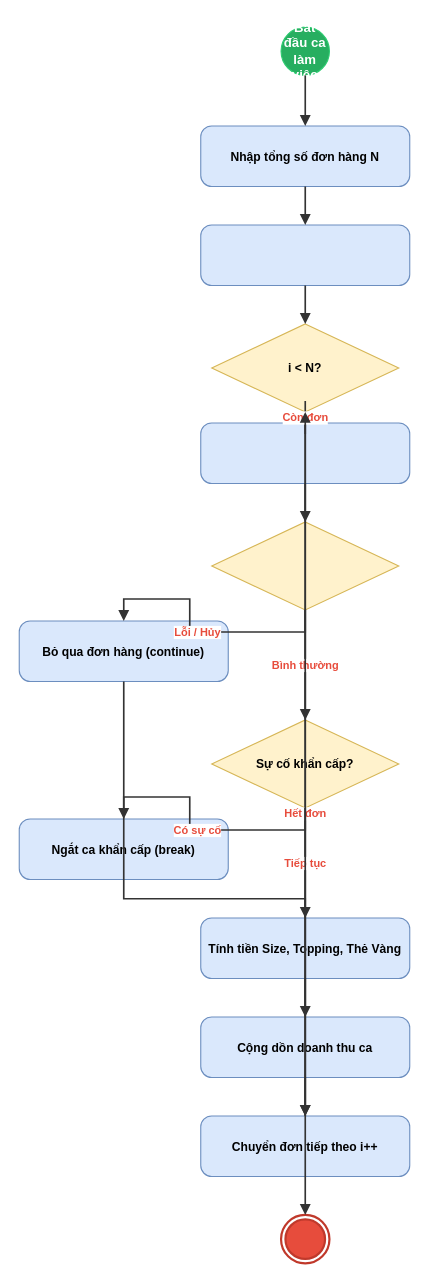
Some shapes in this 429 by 1283 pixel diagram are drawn without their labels. Here are the shapes that lost their labels. From the top down, the box of each, then its label:
(200, 224, 410, 285): Khởi tạo vòng lặp for
(200, 422, 410, 483): Nhập thông tin đơn hàng
(211, 521, 399, 610): Trạng thái hợp lệ?
(279, 1213, 330, 1264): Kết thúc ca & In báo cáo
